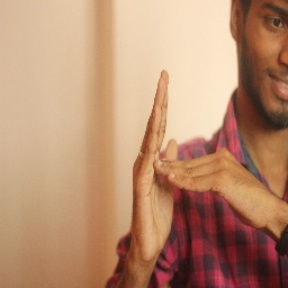Z: (124, 66, 263, 257)
